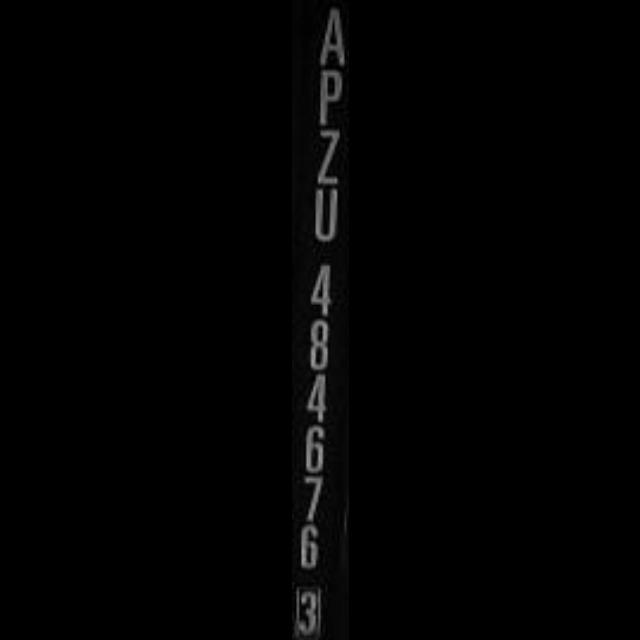3: (292, 577, 322, 637)
4: (298, 256, 342, 318), (298, 371, 336, 425)
6: (298, 424, 334, 476), (292, 520, 326, 572)
7: (299, 472, 327, 524)
8: (303, 314, 337, 378)
a: (309, 1, 349, 69)
p: (307, 64, 348, 126)
u: (301, 184, 349, 246)
z: (299, 121, 349, 183)
